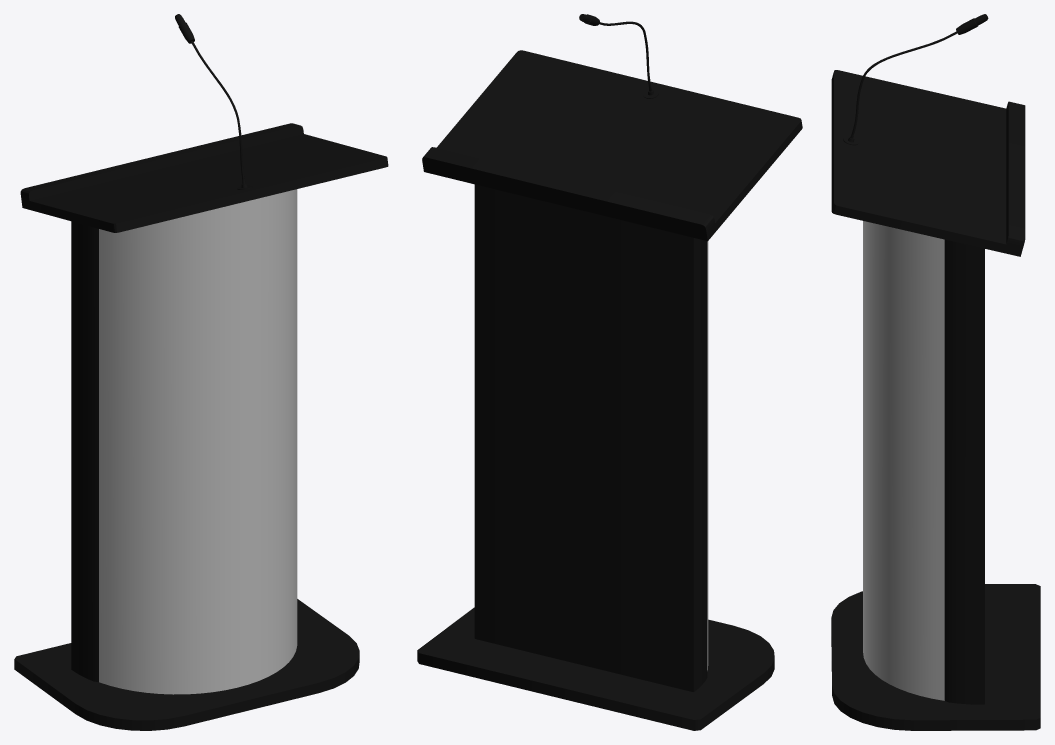
Rendered from Presidential podium 2.fbx.
3 renders of one model, left to right at view 1: azimuth 30°, elevation 25°; view 2: azimuth 150°, elevation 25°; view 3: azimuth 270°, elevation 25°, orthographic. The views are drawn at different scales.
Visible parts, largest first — view 1: Presidential podium 2; view 2: Presidential podium 2; view 3: Presidential podium 2.
Part boxes in pixels (x1=…): Presidential podium 2: x1=14, y1=14, x2=388, y2=730; Presidential podium 2: x1=417, y1=14, x2=802, y2=730; Presidential podium 2: x1=831, y1=14, x2=1040, y2=730.
Bounding box in the file's own units: 66.15 × 147 × 42.98.
